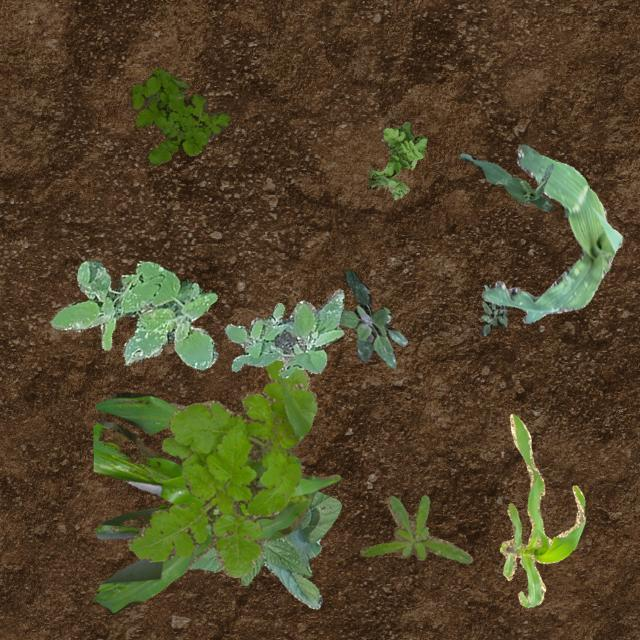crop: (93, 392, 340, 614), (481, 144, 622, 322), (188, 490, 340, 608), (498, 412, 584, 606), (459, 153, 552, 211)
weed: (127, 358, 316, 576), (49, 260, 218, 368), (224, 288, 342, 376), (130, 68, 230, 164), (359, 493, 472, 562), (338, 268, 406, 368), (368, 120, 427, 198), (480, 284, 508, 336)
